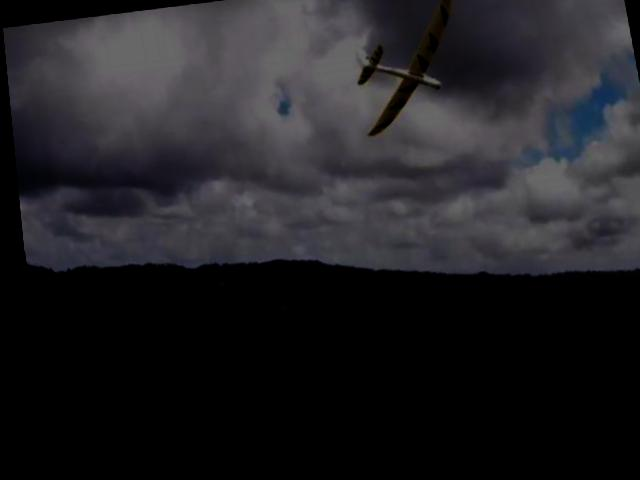iha: (340, 0, 471, 140)
